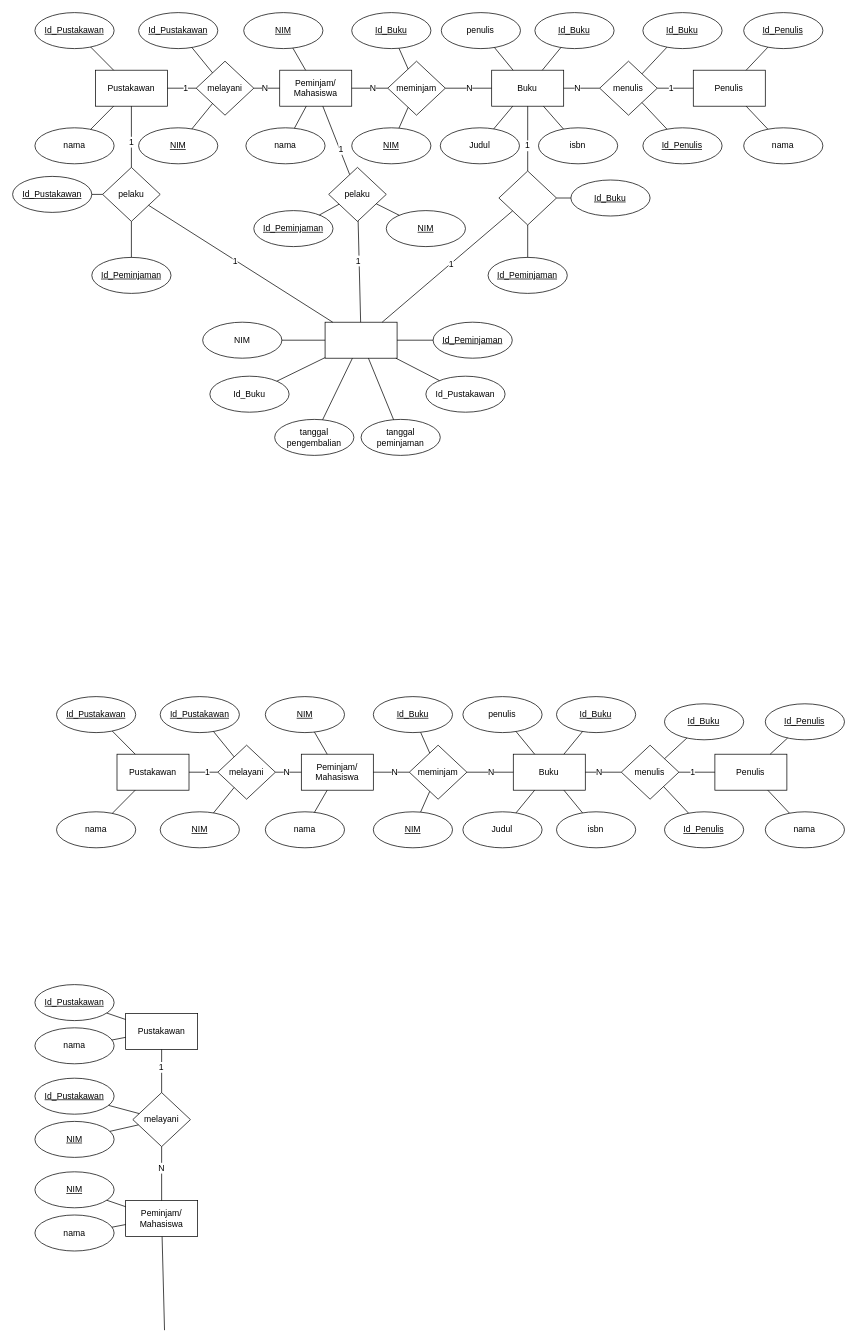
Some shapes in this 858 by 1344 pixel diagram are drawn without their labels. Here are the shapes that lost their labels. From the top down, the centre of each, then its label:
the point at 527,197: dipinjam
the point at 360,339: Peminjaman
